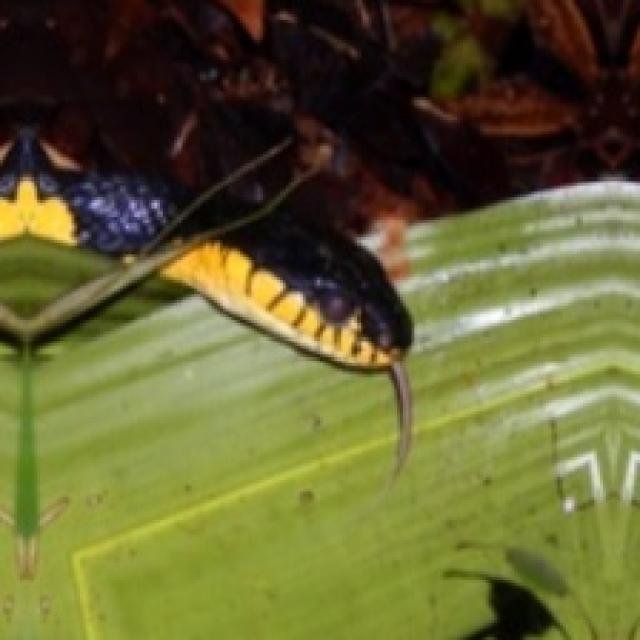mangrove cat snake: (161, 215, 412, 463), (0, 130, 191, 253), (190, 202, 248, 231)
